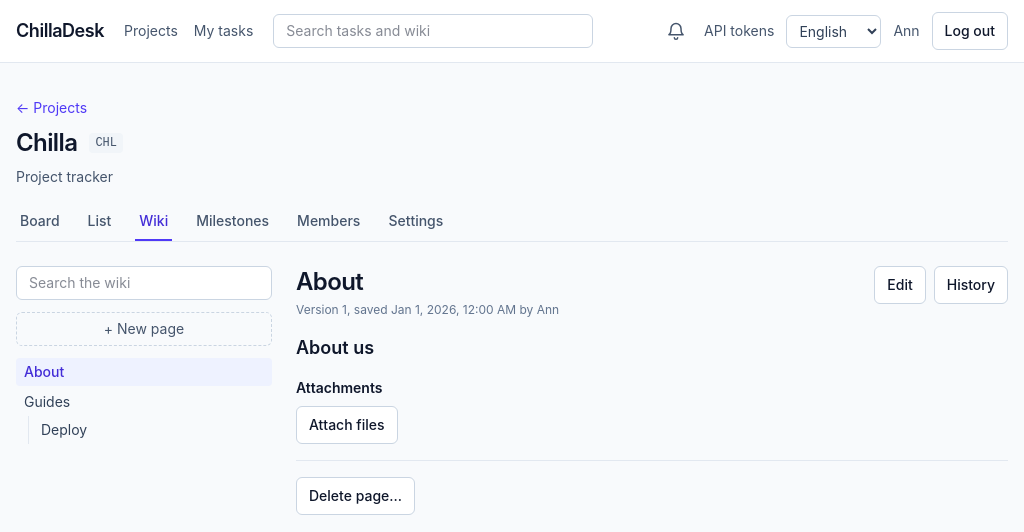
Test: wiki navigation › navigates between pages from the tree
Click the link "Deploy".
click(64, 430)  # box [41,421,87,438]
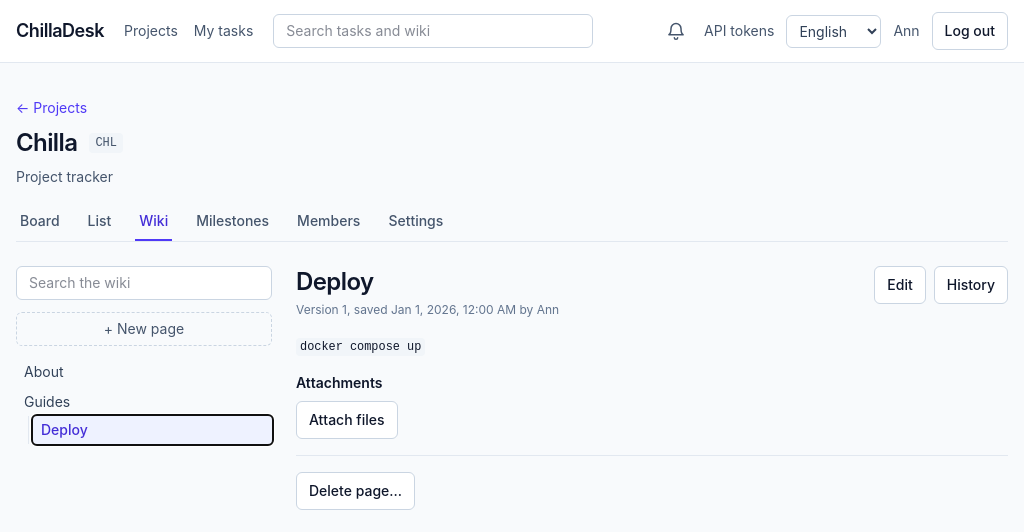
Check: the heading "Deploy" is shown, box [296,267,374,296]
Check: the text "docker compose up" is shown, box [296,338,425,356]
